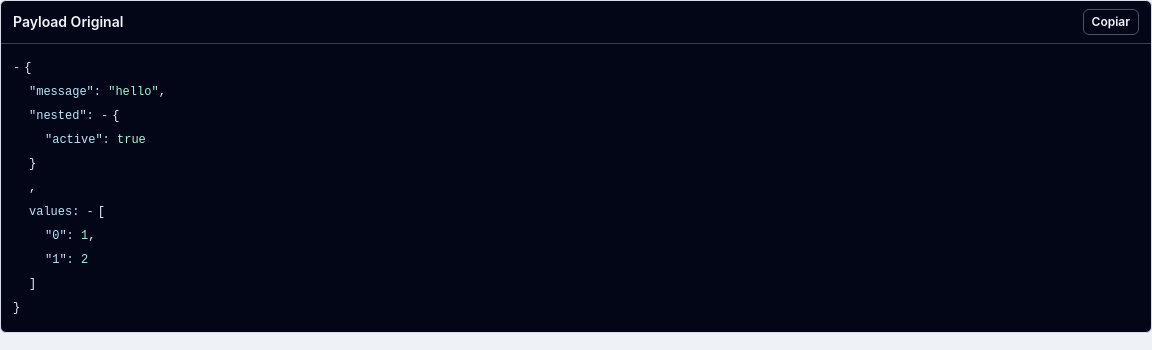
JsonViewer › renders formatted nested JSON and supports collapse
Expected: the heading "Payload Original" is shown, [13, 12, 123, 32]
Expected: the text "\"message\":" is shown, [29, 85, 108, 99]
What coordinates should you click on to do the following:
click the button named "Recolher JSON"
I would click on:
 (17, 68)
Its box is [13, 56, 20, 80].
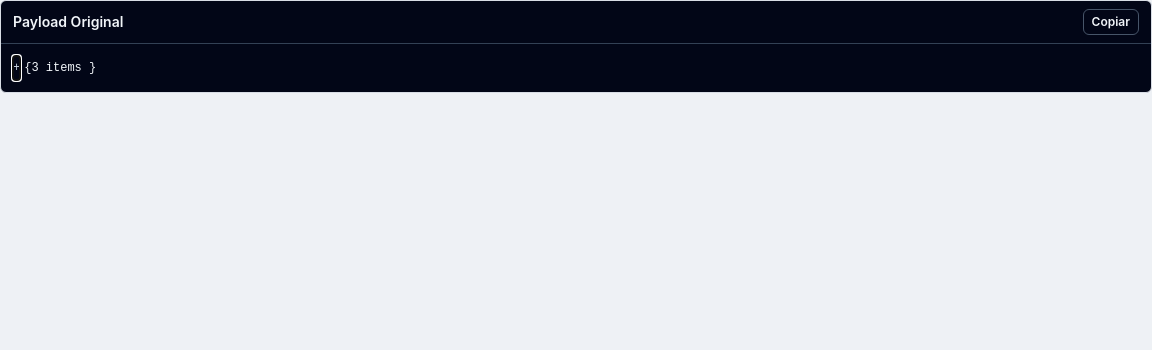
Result: the text "3 items }" is shown at [31, 61, 96, 75]
